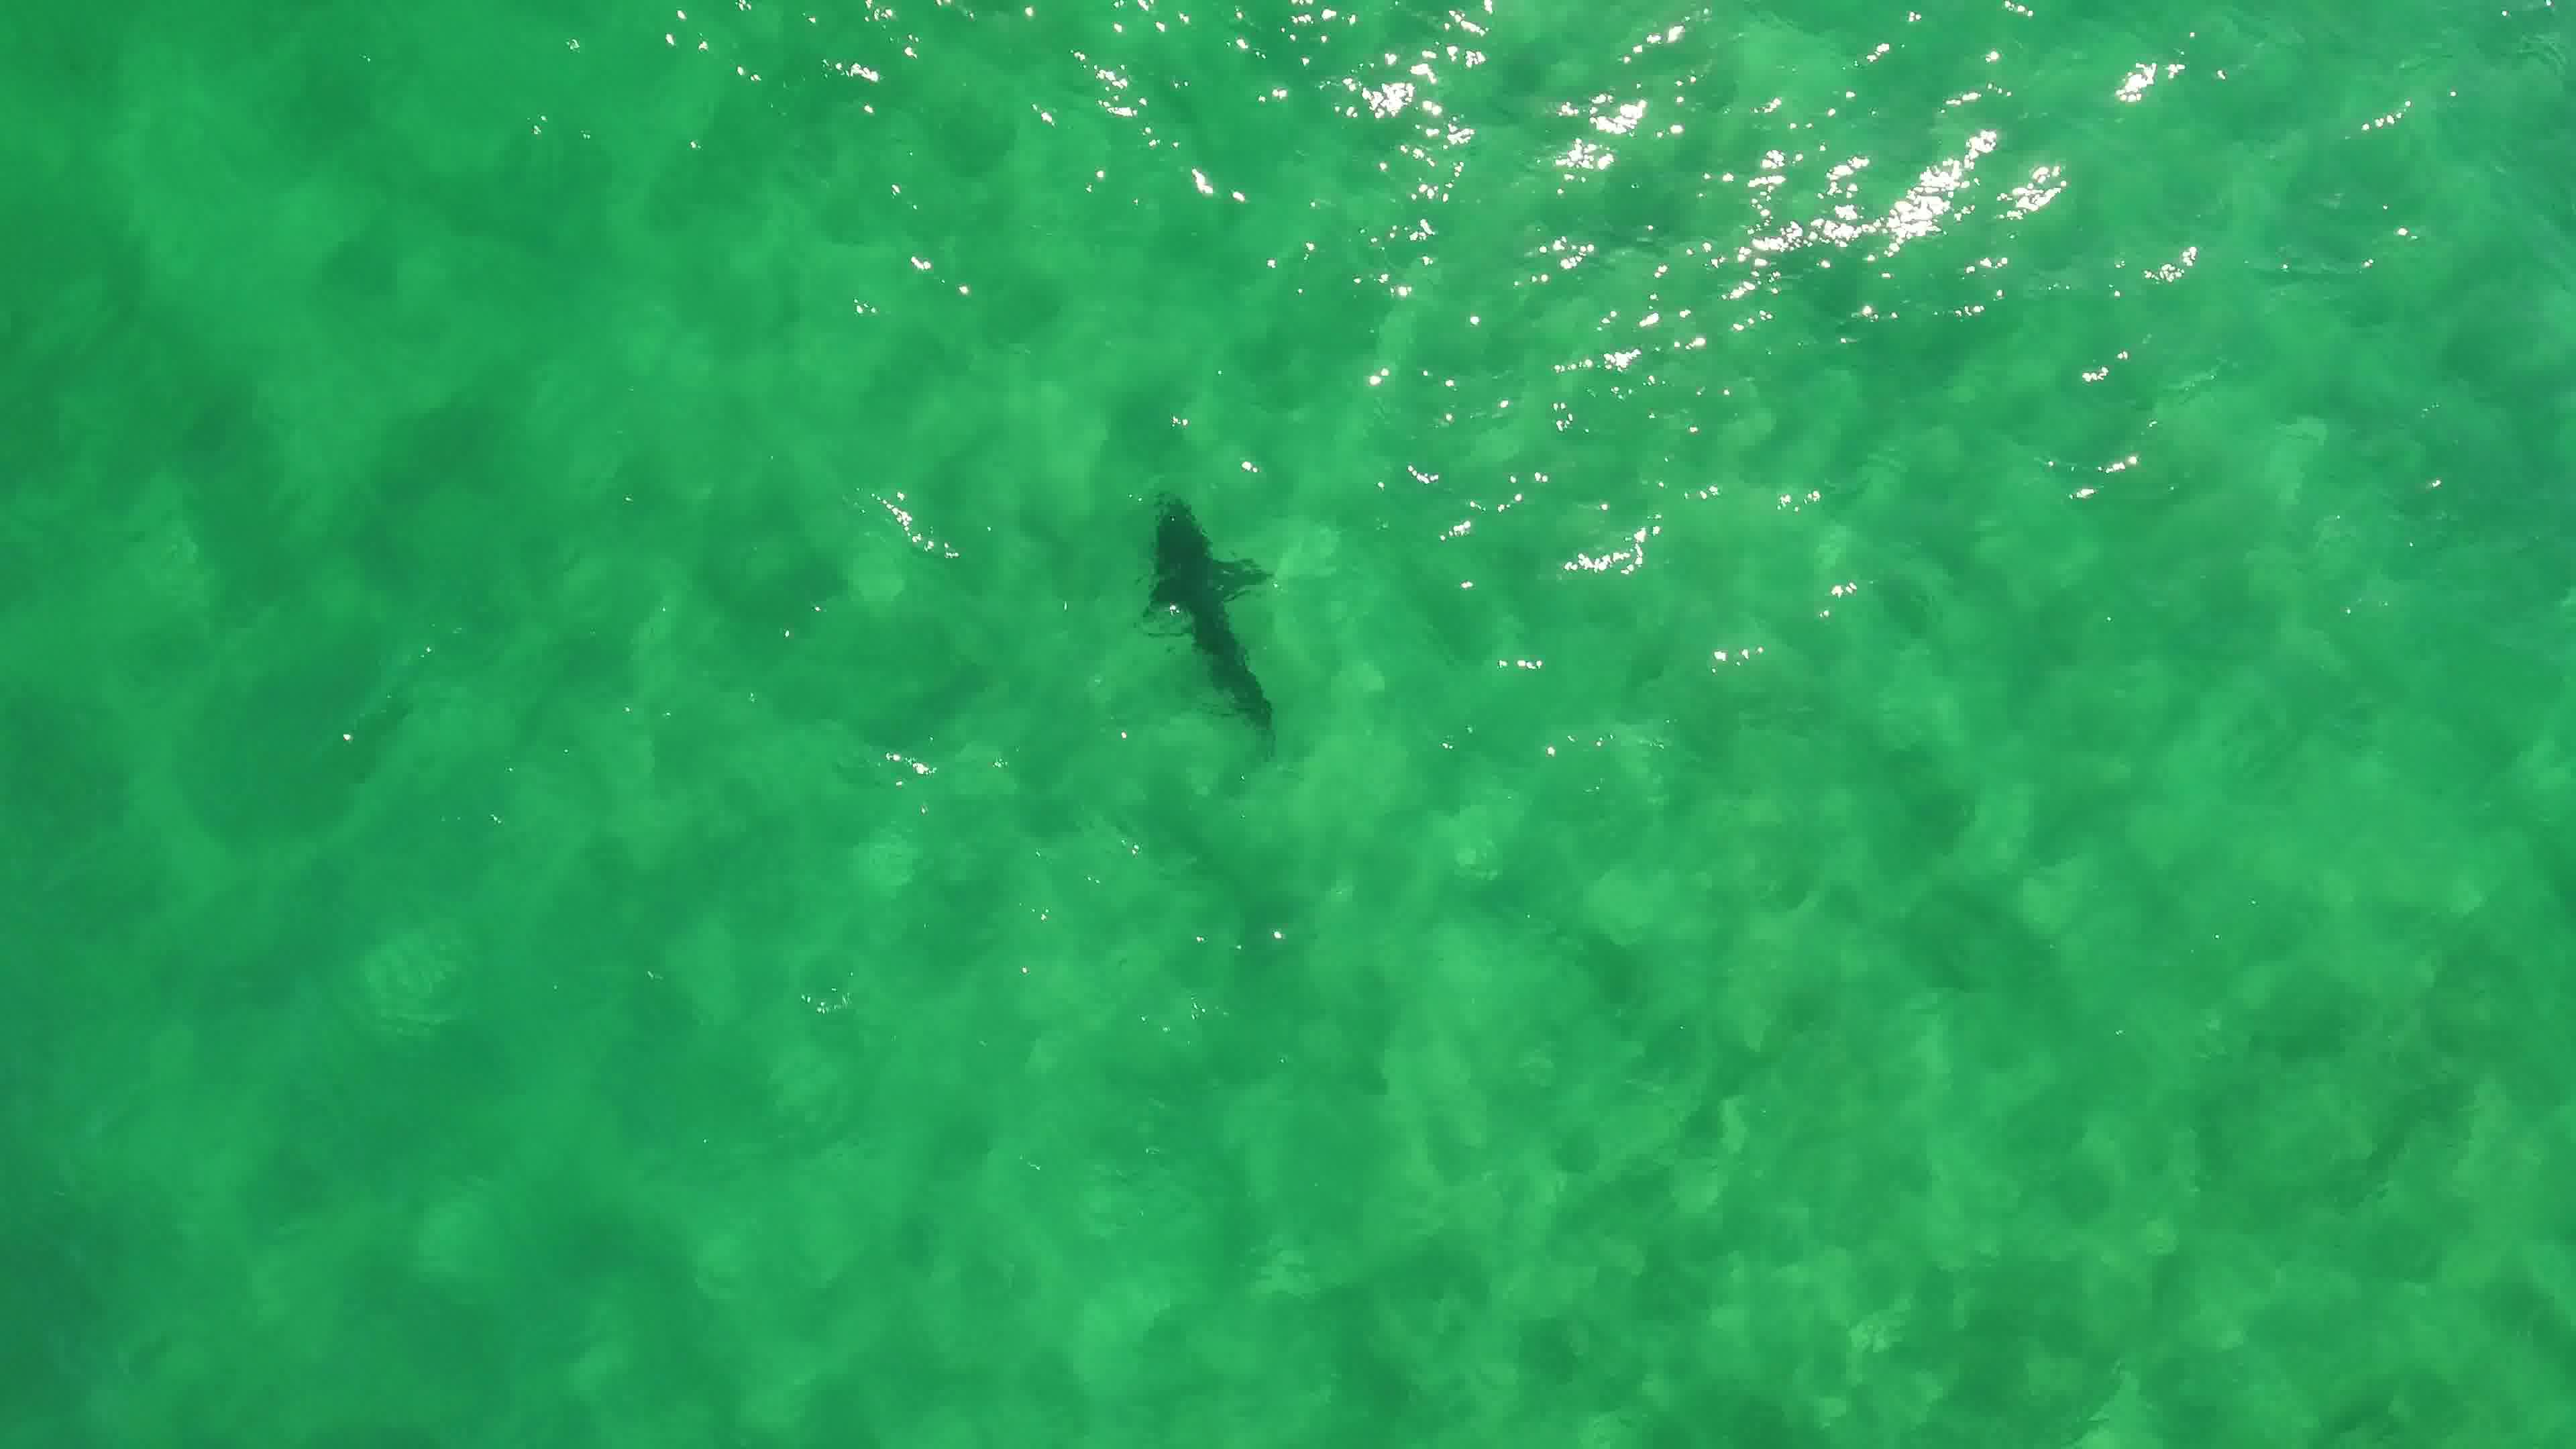shark: (1132, 495, 1292, 754)
